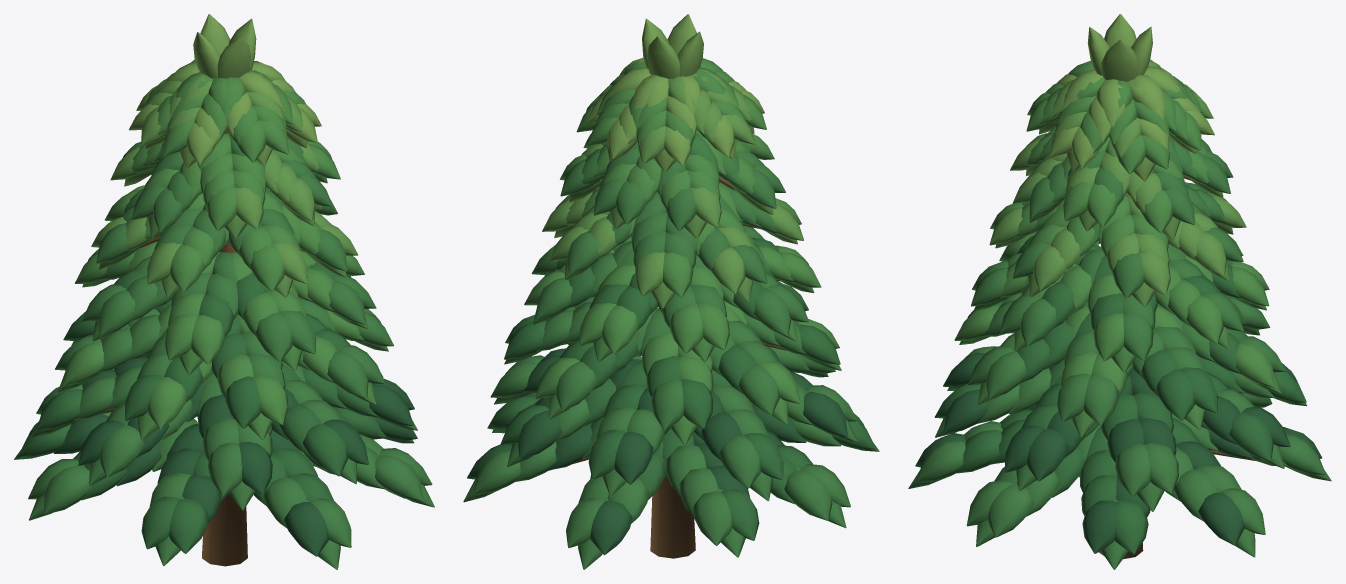
File: foliage_pine_0.glb
3 views of the same model, side by side, from view 1: azimuth 30°, elevation 25°; view 2: azimuth 150°, elevation 25°; view 3: azimuth 270°, elevation 25° (orthographic).
Parts seen in each view (by area): view 1: Trunk; view 2: Trunk; view 3: Trunk.
Part boxes in pixels (x1=…): Trunk: x1=14, y1=14, x2=434, y2=569; Trunk: x1=463, y1=14, x2=879, y2=569; Trunk: x1=908, y1=14, x2=1331, y2=569.
Bounding box in the file's own units: 4.95 × 6.75 × 4.95.
